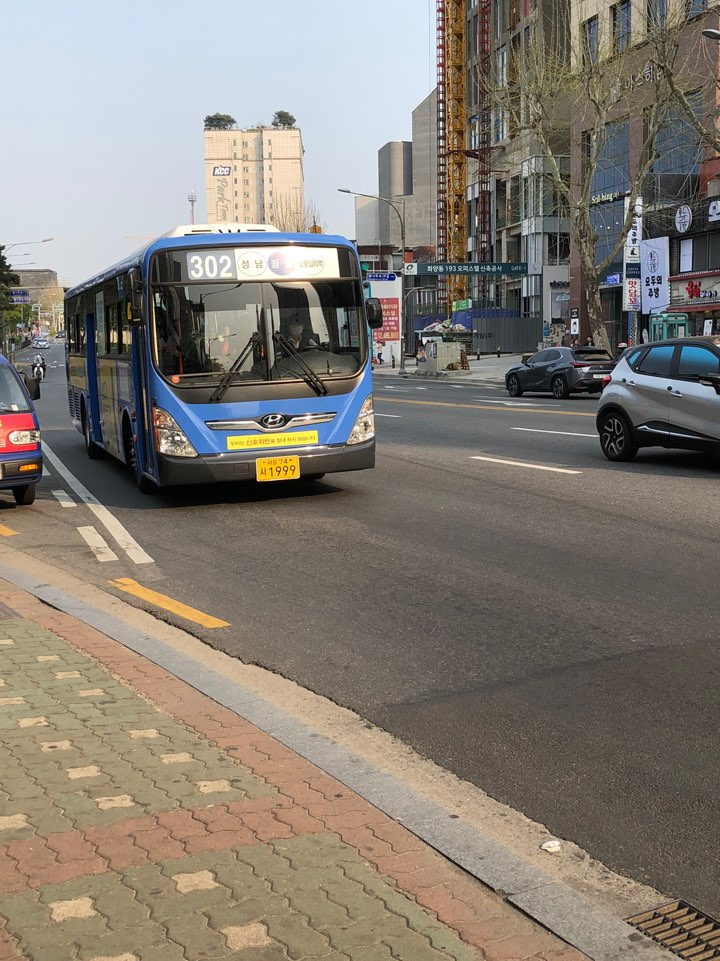bnum: (185, 251, 238, 280)
